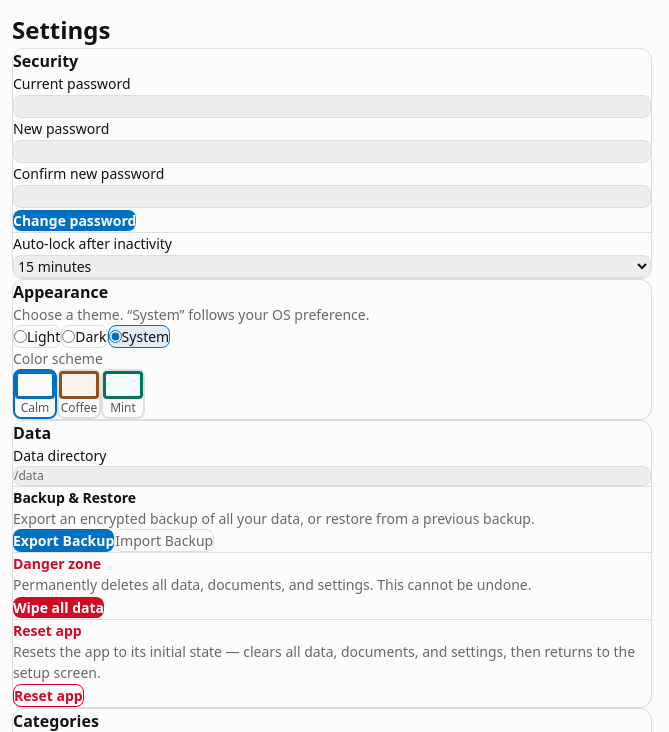
Test: SettingsPage › clears password fields after successful change
Type "oldpass123" into the password field labelled "Current password". click: (332, 106)
box: 13,95 -> 651,118
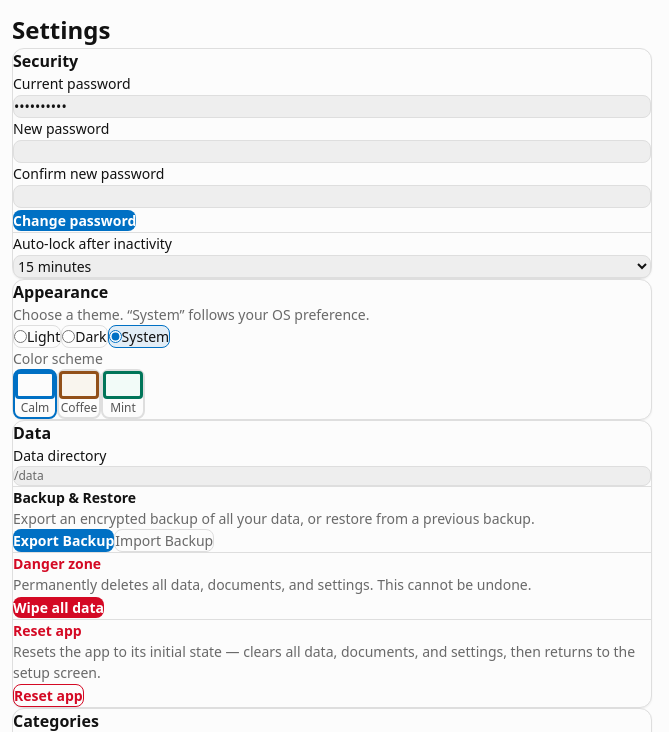
Type "newpass456" into the password field labelled "New password". click: (332, 152)
box: 13,140 -> 651,163
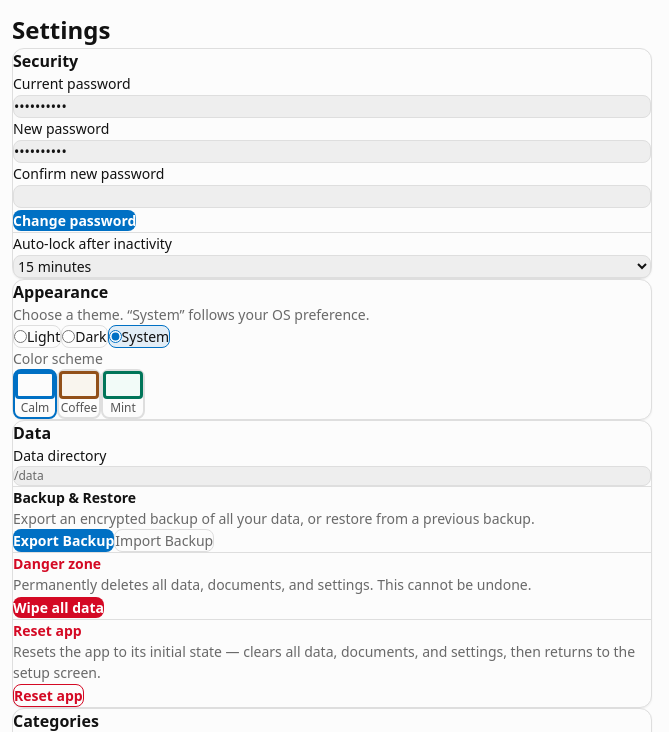
Type "newpass456" into the password field labelled "Confirm new password". click: (332, 196)
box: 13,185 -> 651,208
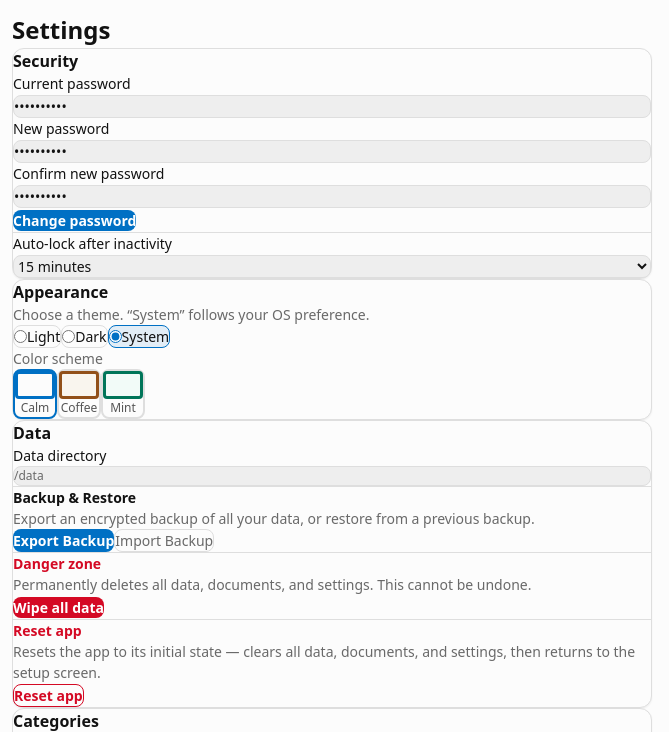
Click the button "Change password". click: click(75, 220)
box: 13,210 -> 136,231
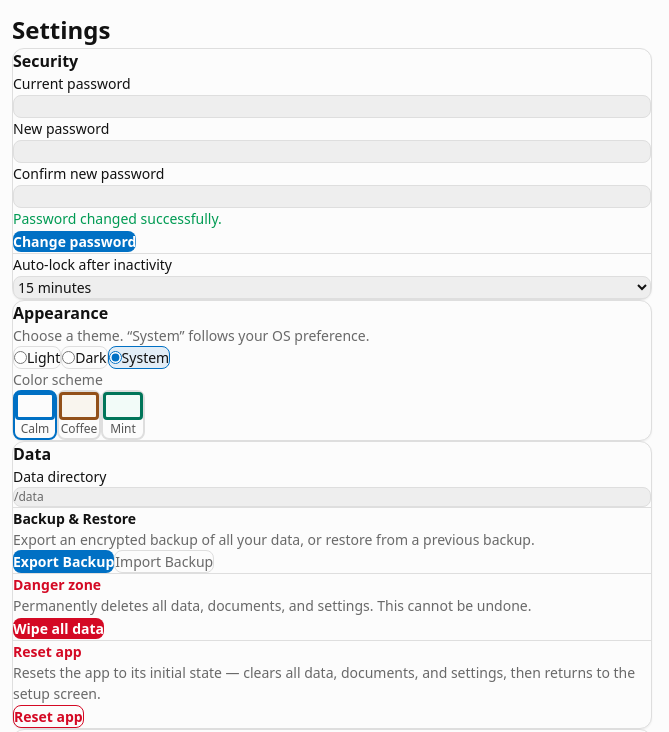
Check: the text "Password changed successfully." is shown, box 13,209 -> 222,228
Check: the password field labelled "Current password" is empty, box 13,95 -> 651,118
Check: the password field labelled "New password" is empty, box 13,140 -> 651,163
